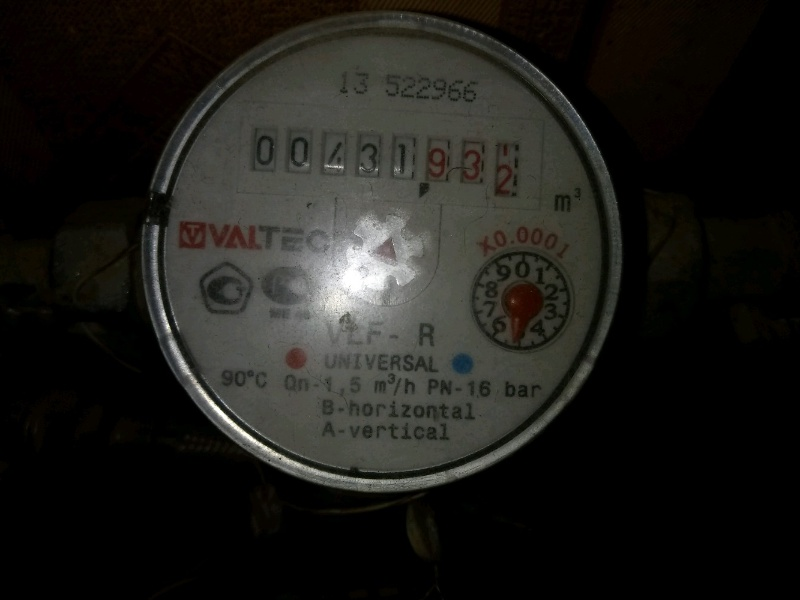meter: (250, 129, 534, 205)
